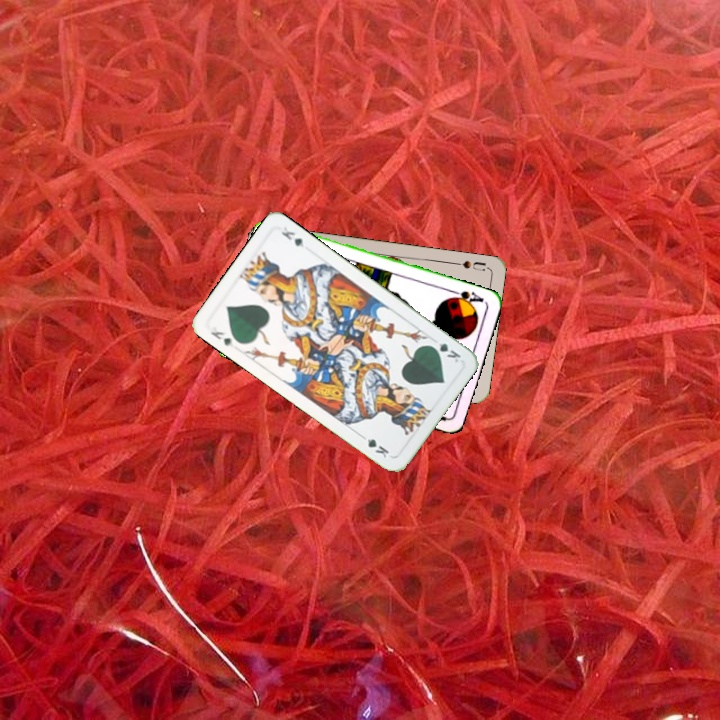GK: (426, 339, 464, 365), (206, 327, 236, 349)
SA: (445, 286, 486, 308)
SU: (449, 257, 490, 274)
